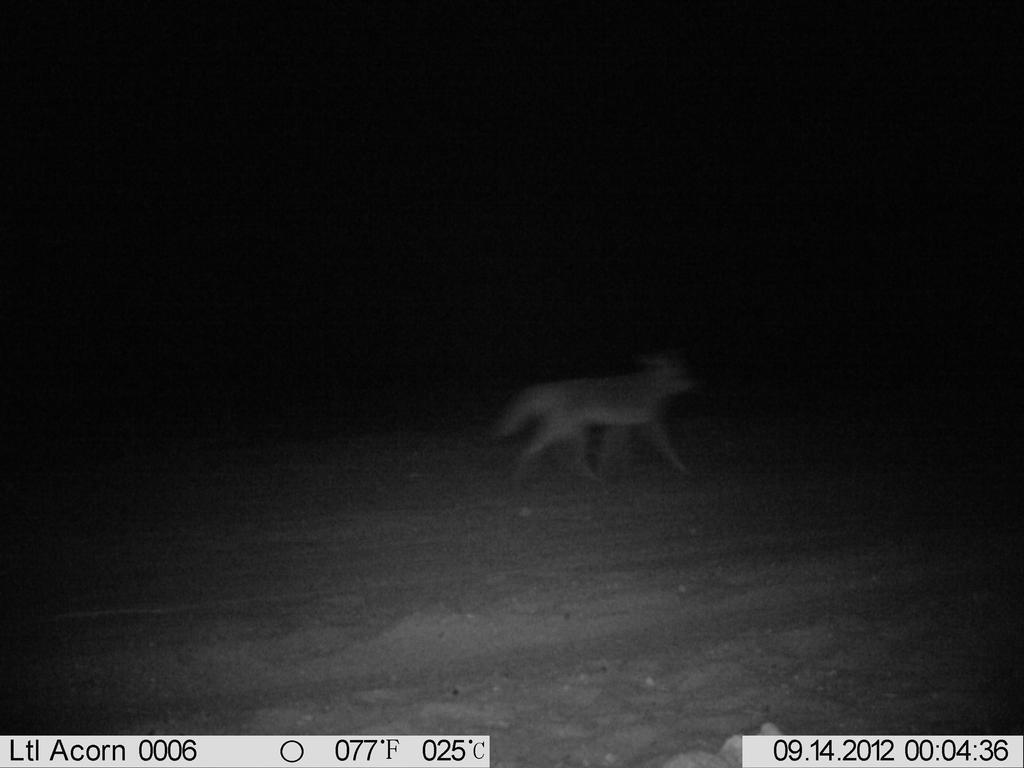coyote: (482, 341, 716, 509)
